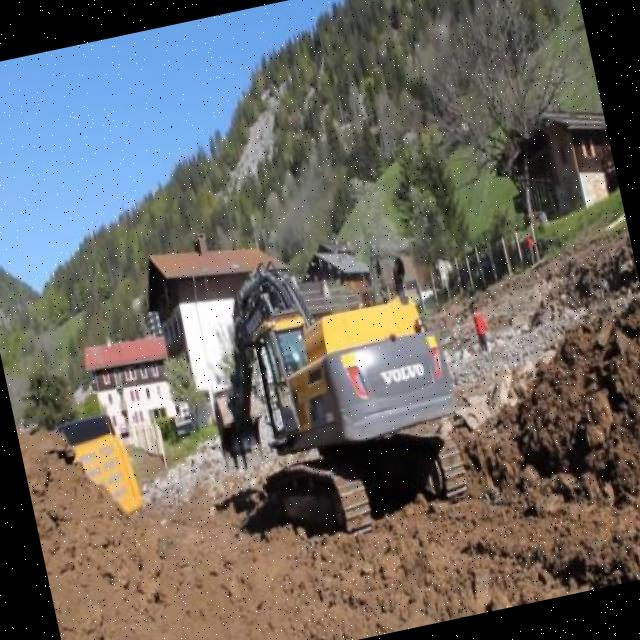Excavator: (182, 226, 479, 557)
